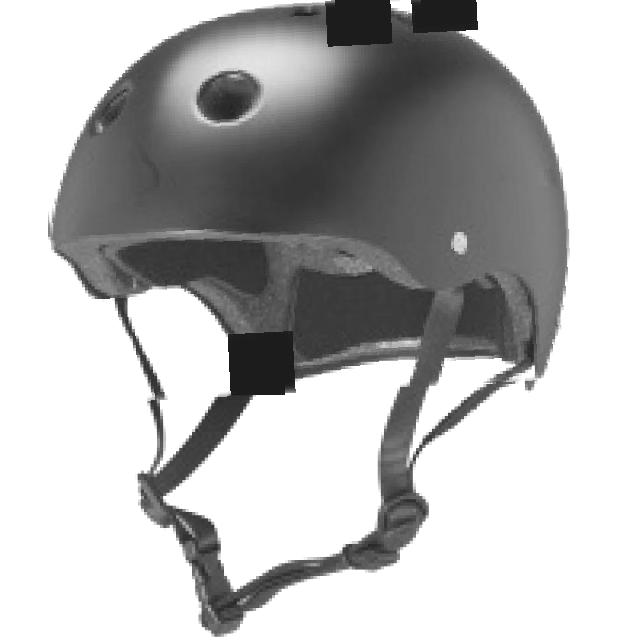helmet: (44, 0, 573, 398)
